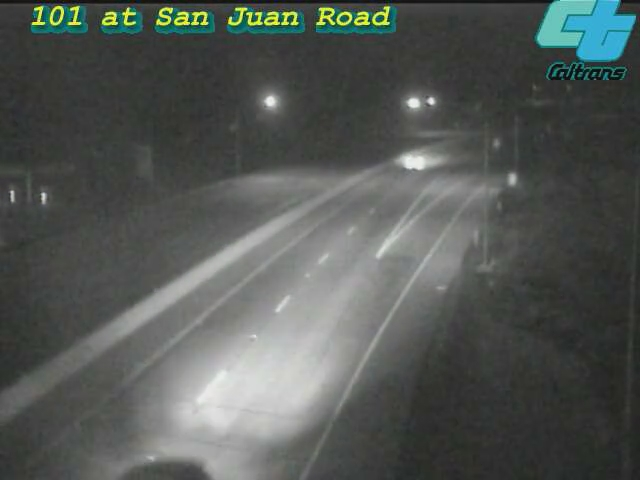vehicle: (110, 416, 220, 480), (377, 122, 457, 202)
